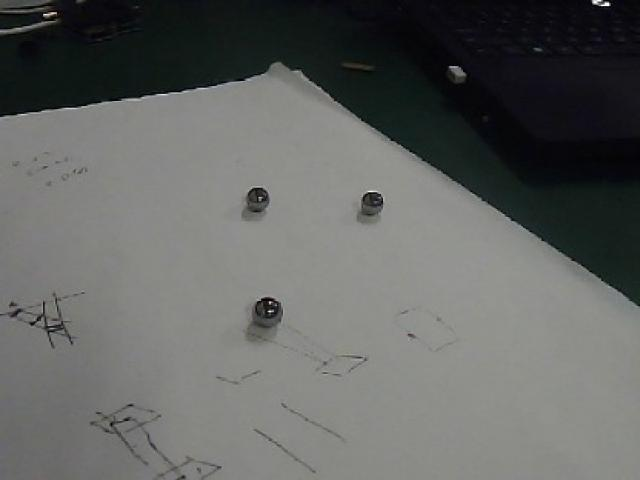steel-ball: (228, 168, 278, 220), (346, 174, 397, 221), (240, 286, 288, 334)
